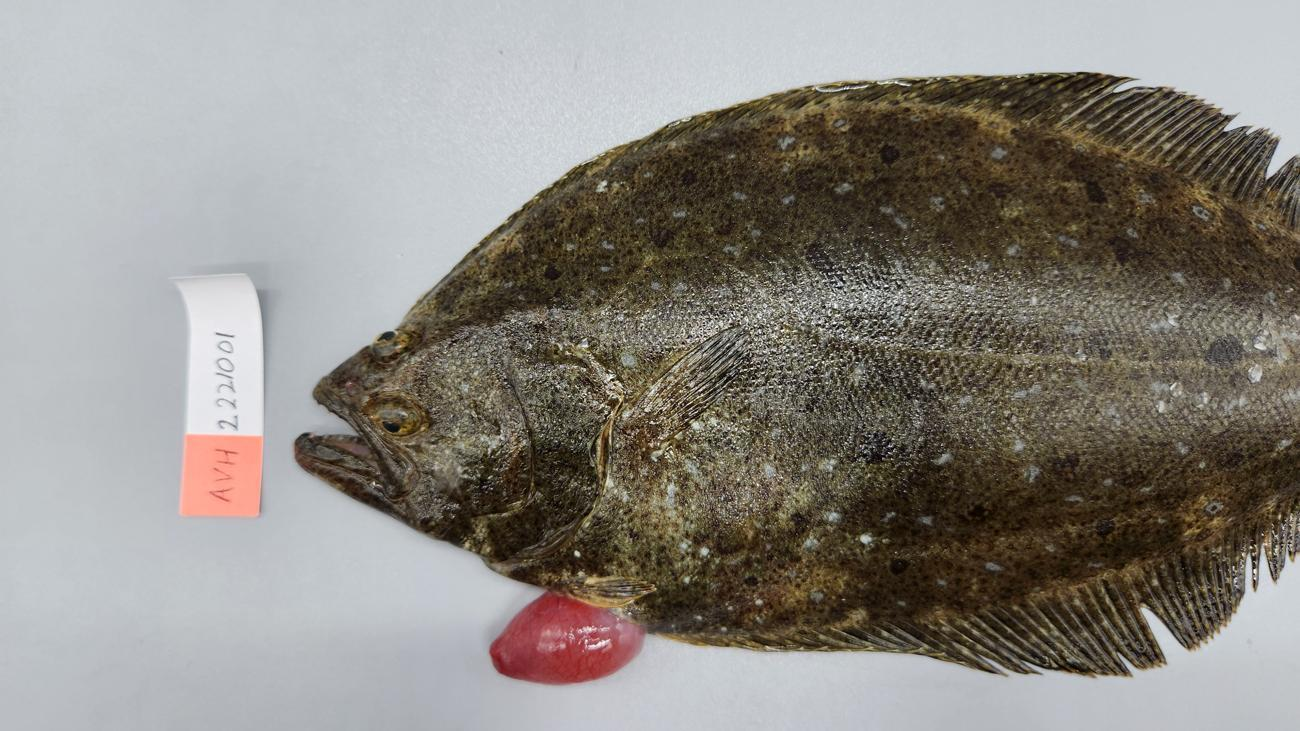VIDYH: (528, 98, 911, 217)
